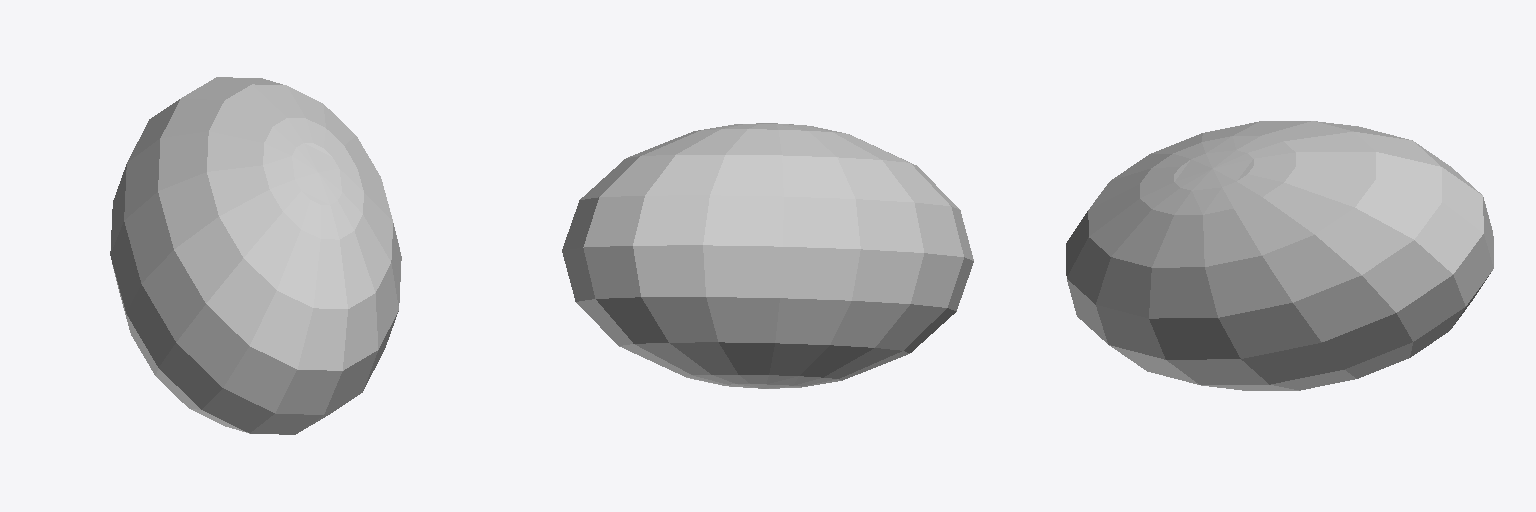
The model's file is Ovary_L.obj.
3 views of the same model, side by side, from view 1: azimuth 30°, elevation 25°; view 2: azimuth 150°, elevation 25°; view 3: azimuth 270°, elevation 25° (orthographic).
Parts seen in each view (by area): view 1: Ovary_L_Sphere.002; view 2: Ovary_L_Sphere.002; view 3: Ovary_L_Sphere.002.
Part boxes in pixels (x1,y1,x2,y2): Ovary_L_Sphere.002: (110,77,401,434); Ovary_L_Sphere.002: (562,123,973,388); Ovary_L_Sphere.002: (1066,121,1493,390).
Bounding box in the file's own units: 0.8183 × 0.718 × 1.09.